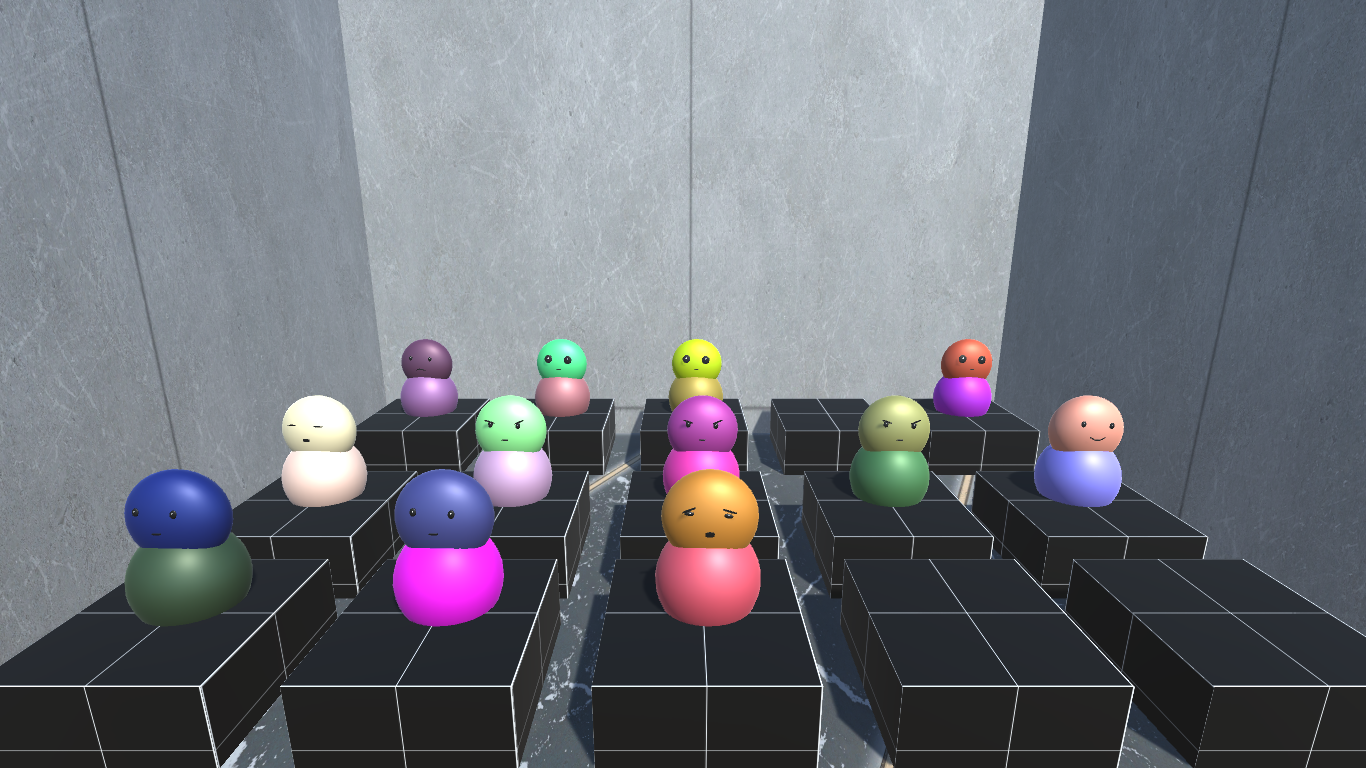blob_atento: (936, 330, 995, 381), (666, 333, 723, 383), (532, 336, 592, 381)
blob_dormindo: (274, 393, 365, 455)
blob_entediado: (638, 476, 770, 552)
blob_feliz: (1042, 394, 1141, 457)
blob_normal: (110, 458, 243, 551), (384, 469, 501, 553), (393, 340, 449, 377)
blob_raiva: (468, 394, 552, 452), (658, 390, 738, 450), (851, 396, 931, 454)
